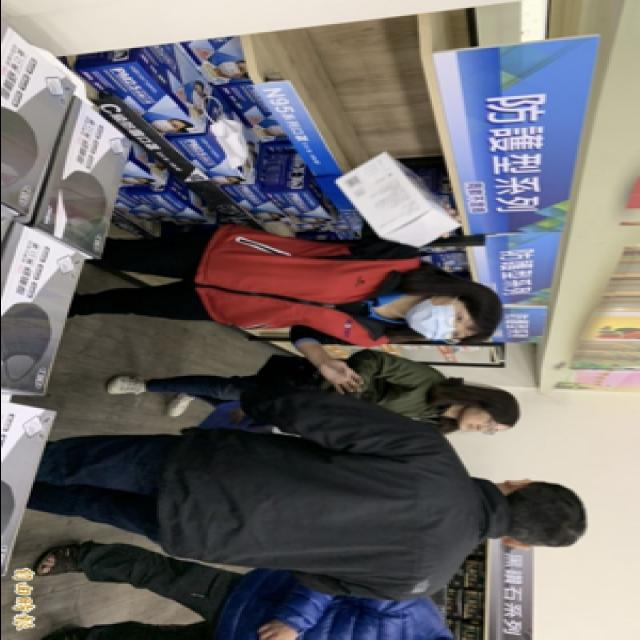mask: (408, 294, 473, 342)
no_mask: (461, 408, 501, 435)
